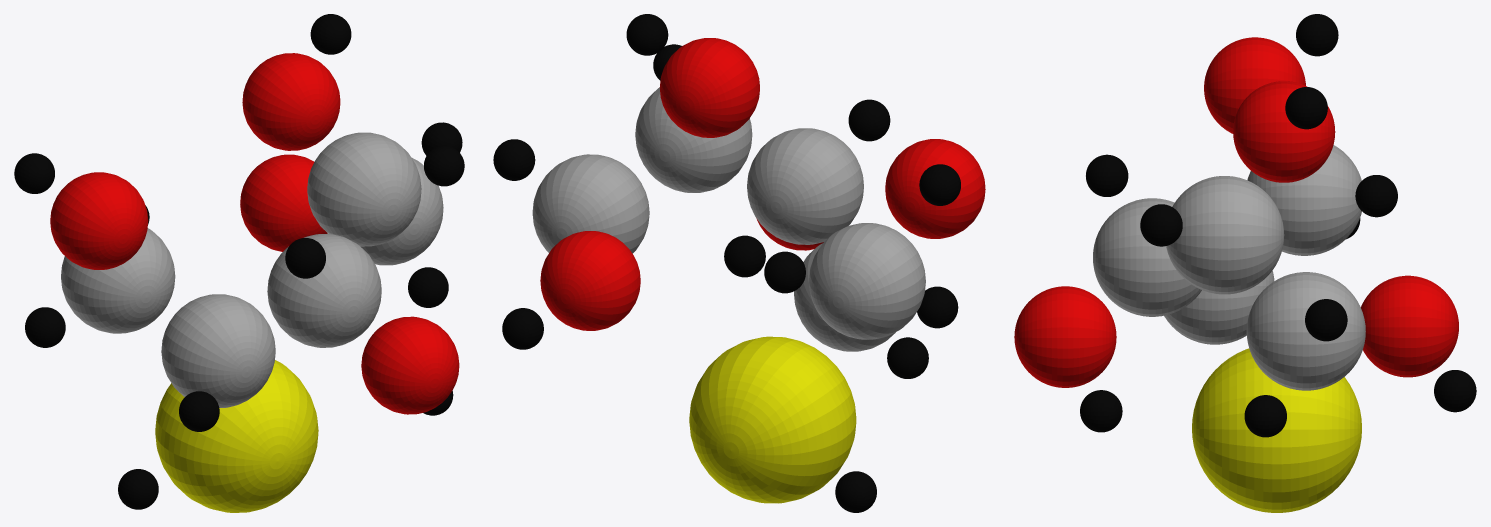
File: Keratin.glb
The picture shows the model from 3 angles, left to right: view 1: azimuth 30°, elevation 25°; view 2: azimuth 150°, elevation 25°; view 3: azimuth 270°, elevation 25°; orthographic projection. The views are drawn at different scales.
Visible parts, largest first — view 1: world; view 2: world; view 3: world.
Part boxes in pixels (x1,y1,x2,y2): world: [14, 14, 464, 512]; world: [493, 14, 985, 512]; world: [1014, 14, 1476, 512].
Bounding box in the file's own units: 6.32 × 6.11 × 5.43.
